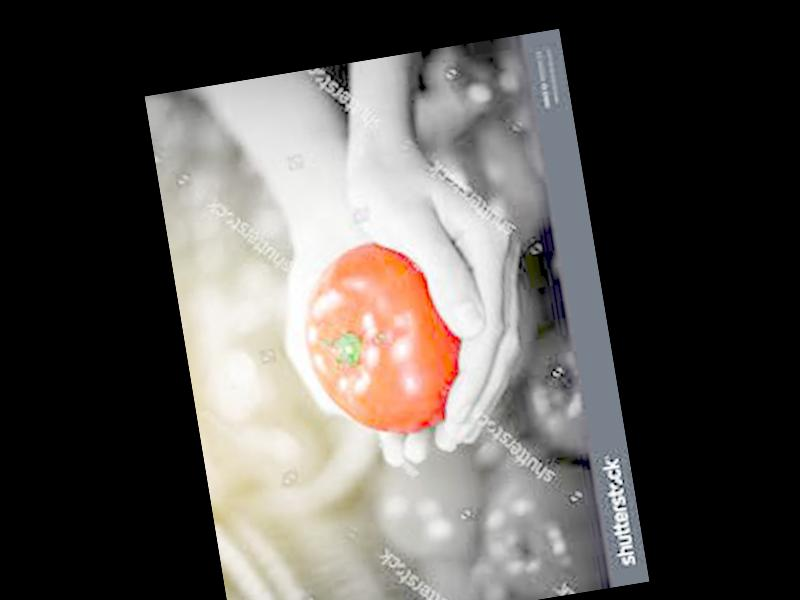Tomato: (292, 231, 472, 445)
